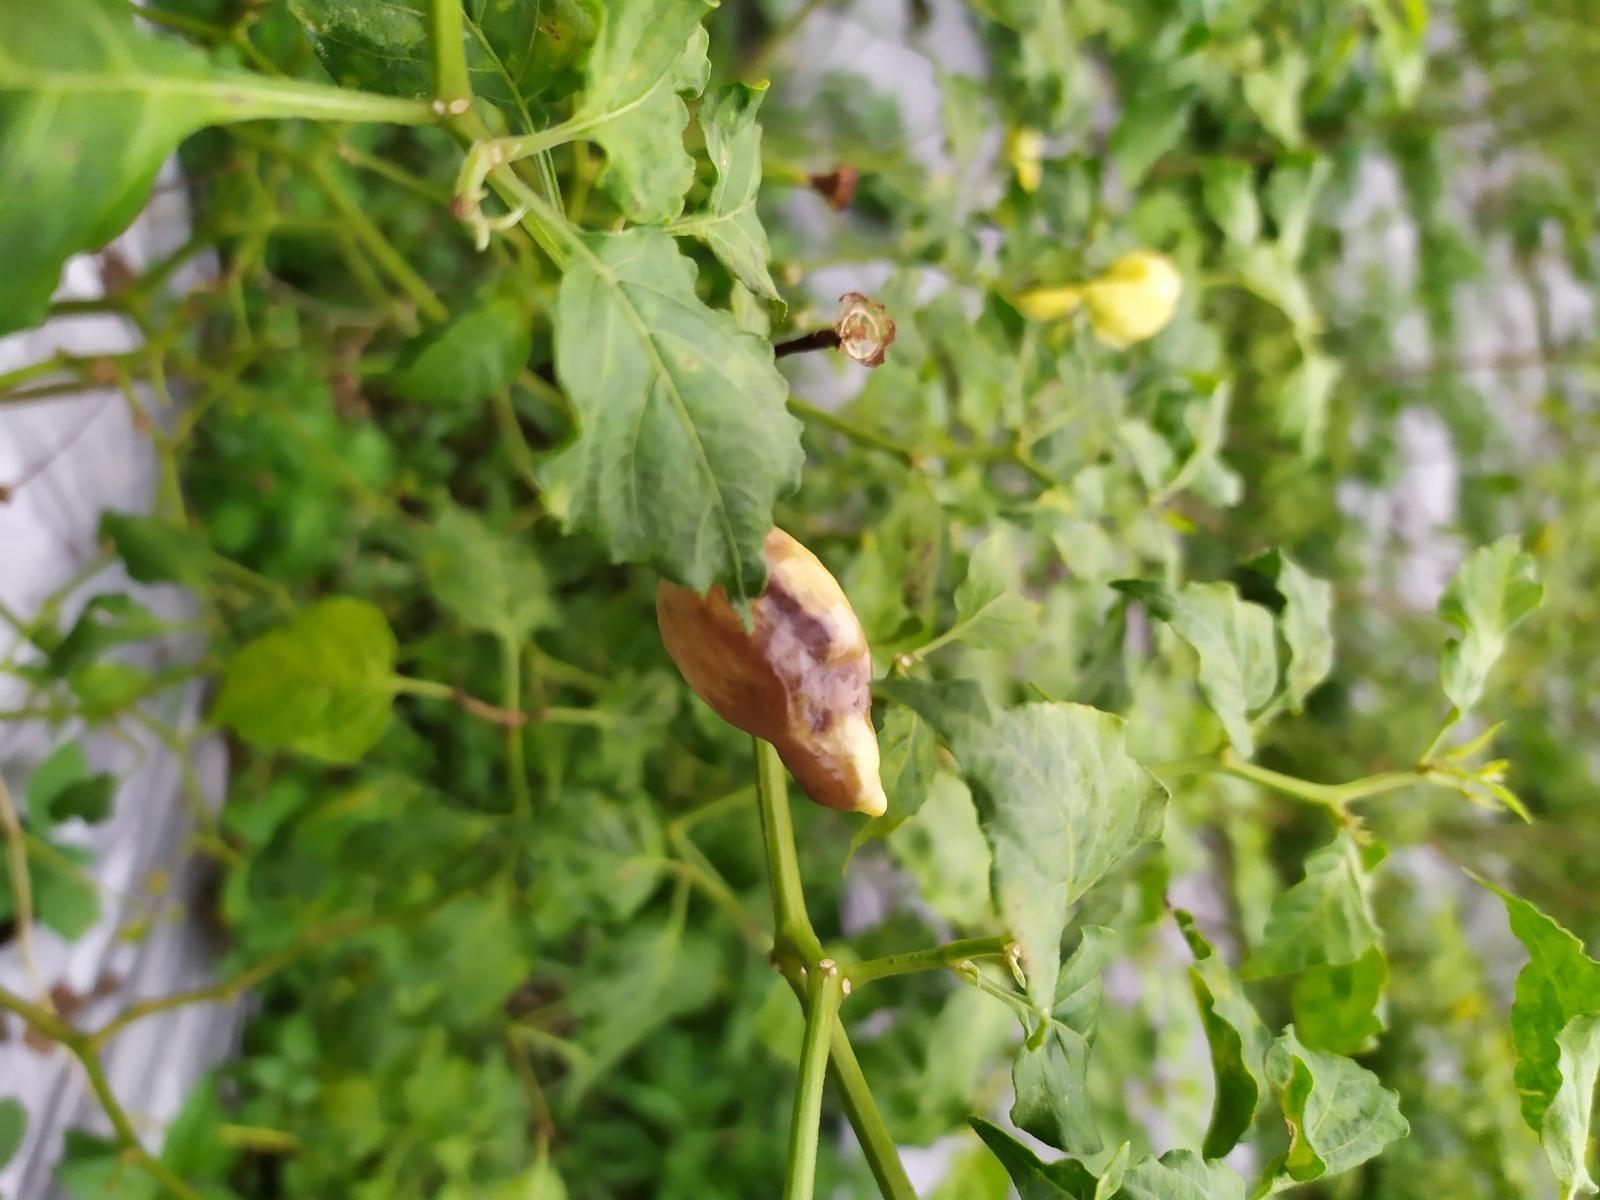lalat_buah: (653, 521, 887, 814)
